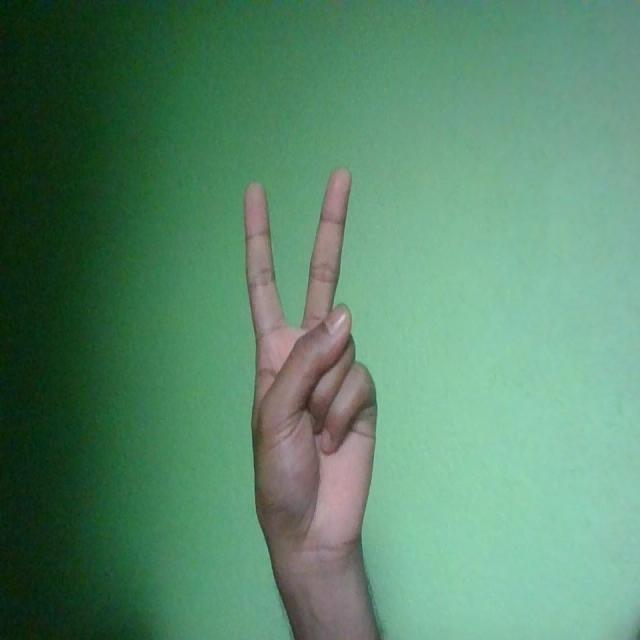Fist: (242, 164, 379, 560)
